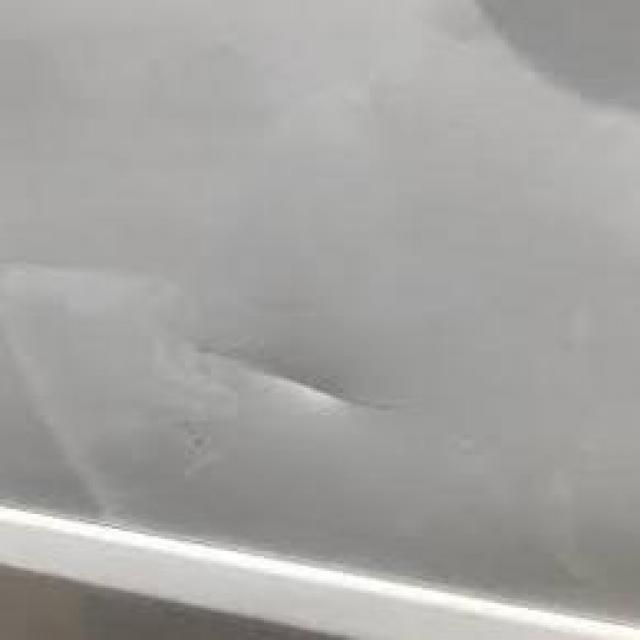dent: (168, 325, 380, 424)
